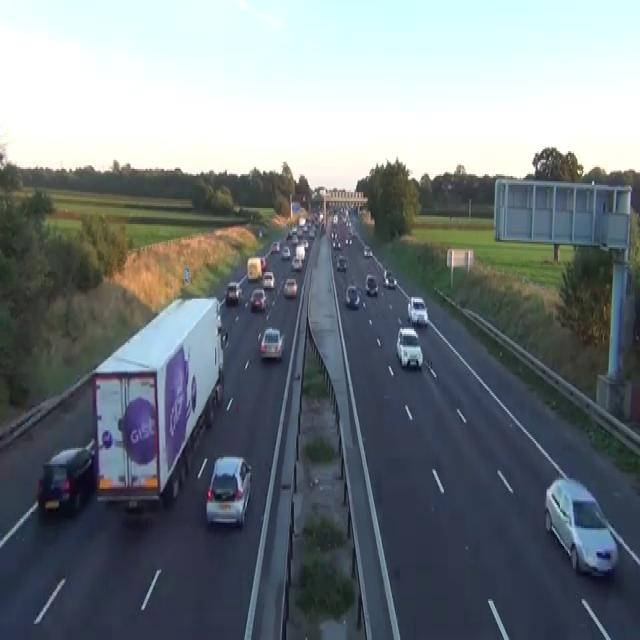Car: (544, 476, 618, 578), (36, 439, 95, 517), (205, 455, 252, 528), (117, 396, 156, 464), (396, 325, 423, 368), (259, 327, 284, 359), (407, 297, 428, 325), (216, 313, 228, 348), (225, 281, 242, 304), (249, 288, 266, 311), (345, 284, 360, 308), (364, 274, 378, 295), (632, 311, 639, 352), (283, 277, 297, 297), (383, 268, 397, 288), (262, 270, 275, 288), (336, 254, 346, 272), (295, 244, 305, 262), (291, 256, 302, 270), (221, 327, 228, 349), (280, 246, 290, 260), (270, 240, 280, 252), (216, 313, 222, 331), (363, 245, 372, 256), (383, 269, 392, 279), (260, 256, 266, 270), (332, 240, 341, 249), (302, 238, 309, 249), (290, 234, 298, 243), (308, 228, 315, 238), (286, 229, 292, 240), (331, 229, 337, 240), (298, 217, 305, 226), (333, 213, 338, 224), (291, 226, 297, 234), (344, 237, 349, 246), (319, 212, 323, 222), (258, 228, 262, 236), (348, 236, 352, 244)
Truck: (91, 295, 226, 512), (247, 256, 265, 281)
